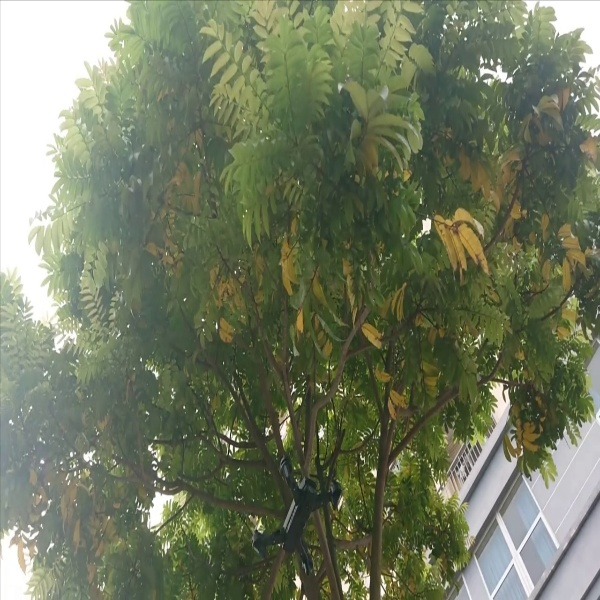drone: (249, 452, 347, 581)
